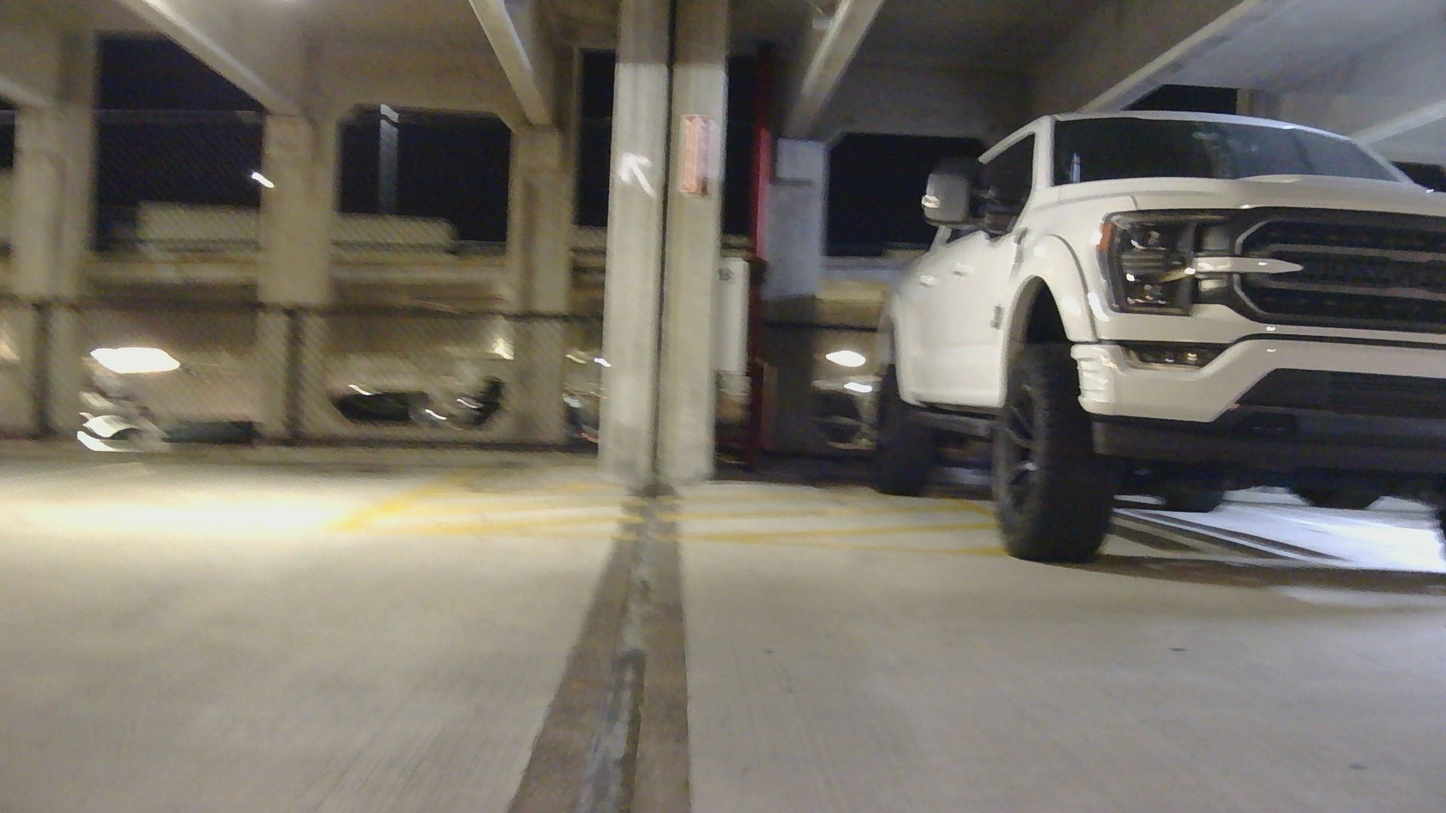empty_spot: (3, 381, 477, 546)
occupied_spot: (868, 107, 1446, 576)
